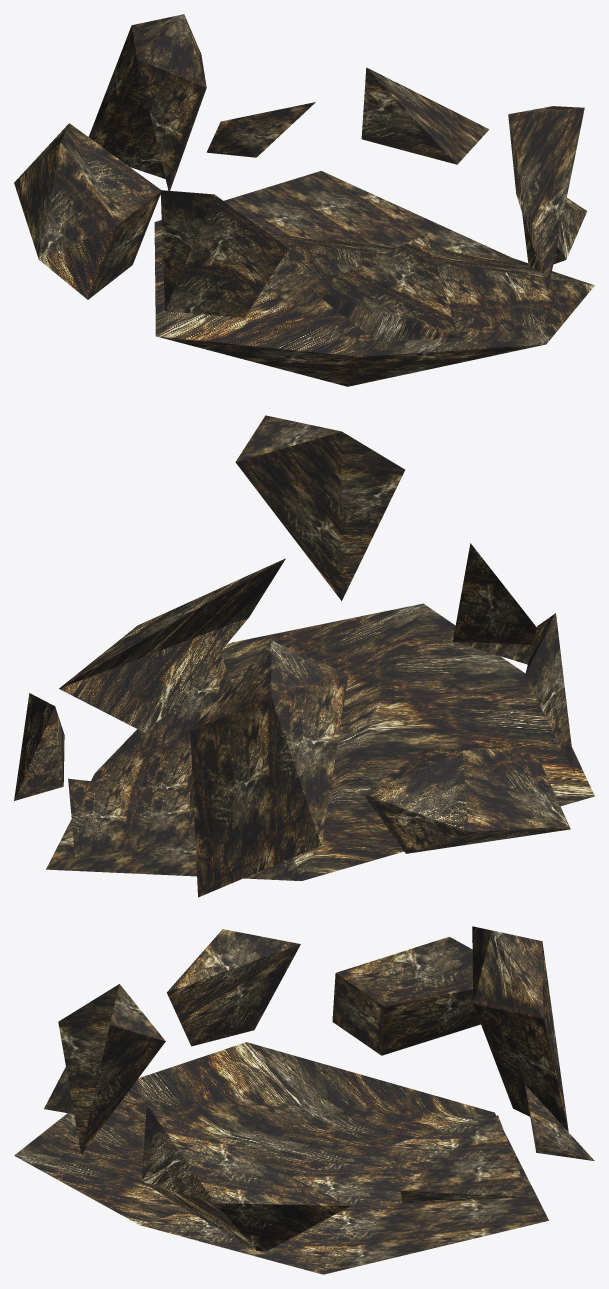
The model's file is poi_all_lair_firepit_l3.fbx.
3 renders of one model, top to bottom at view 1: azimuth 30°, elevation 25°; view 2: azimuth 150°, elevation 25°; view 3: azimuth 270°, elevation 25°, orthographic. The views are drawn at different scales.
Visible parts, largest first — view 1: mesh_node; view 2: mesh_node; view 3: mesh_node.
Part boxes in pixels (box(x1,y1,x2,y2)): mesh_node: box(14, 14, 594, 386); mesh_node: box(14, 415, 594, 897); mesh_node: box(14, 926, 594, 1274).
Size of the model in its own units: 2.38 by 1.22 by 2.68.
